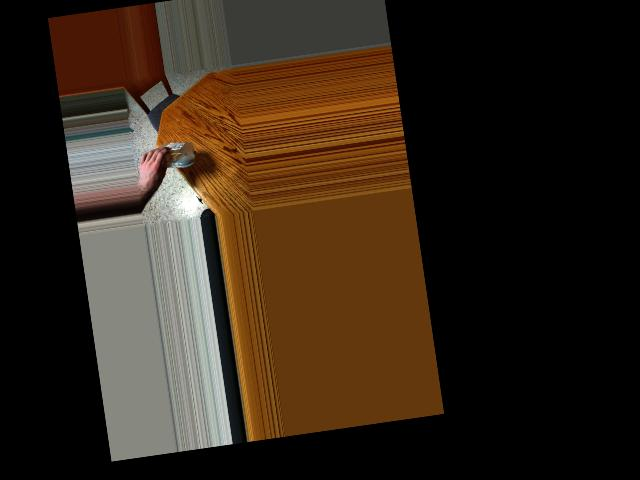cheese: (154, 130, 198, 187)
